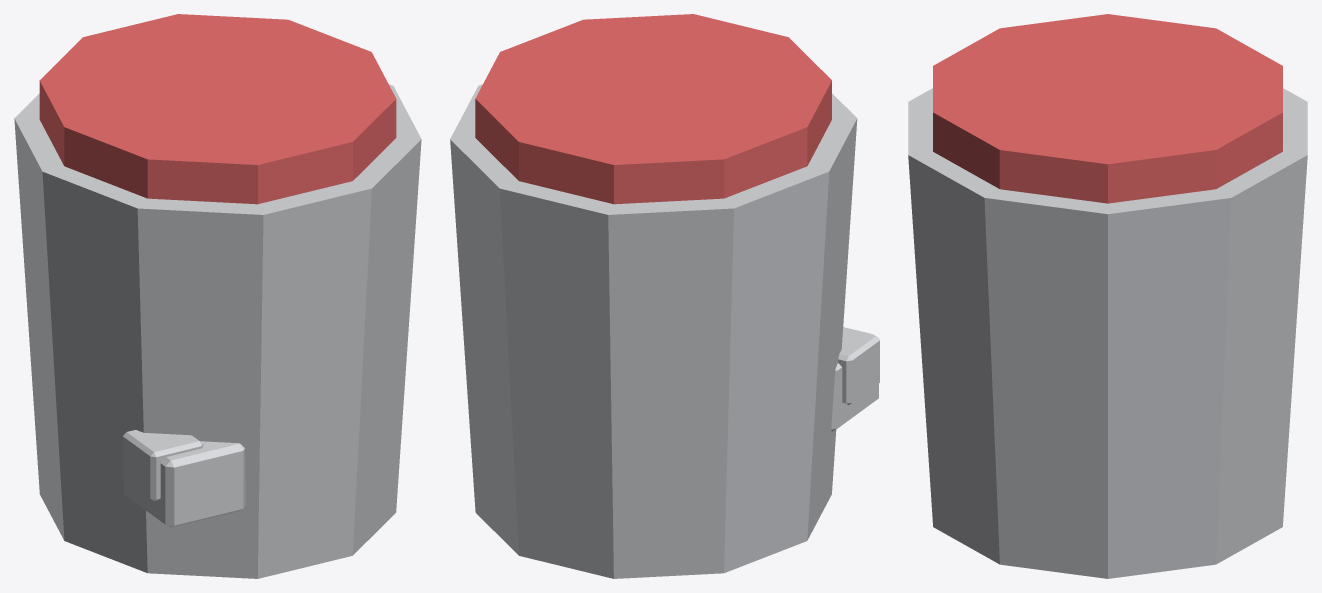
File: b16_crushed_soda_can.glb
3 views of the same model, side by side, from view 1: azimuth 30°, elevation 25°; view 2: azimuth 150°, elevation 25°; view 3: azimuth 270°, elevation 25° (orthographic).
Parts seen in each view (by area): view 1: b16_crushed_soda_can; view 2: b16_crushed_soda_can; view 3: b16_crushed_soda_can.
Boxes of the visible parts, x1=… form: b16_crushed_soda_can: x1=14, y1=14, x2=421, y2=578; b16_crushed_soda_can: x1=450, y1=14, x2=879, y2=578; b16_crushed_soda_can: x1=908, y1=14, x2=1307, y2=578.
Bounding box in the file's own units: 0.063 × 0.071 × 0.062.
